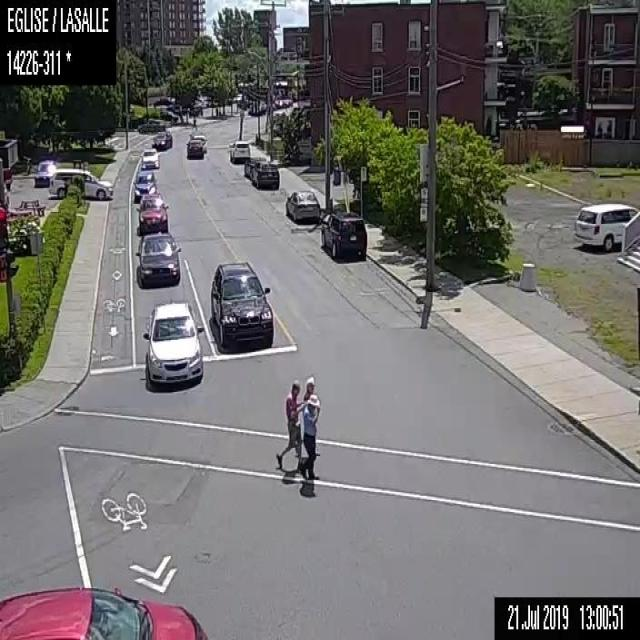pedestrian: (274, 376, 306, 481), (302, 393, 320, 481), (302, 374, 316, 402)
vehicle: (0, 584, 207, 638), (209, 259, 274, 349), (141, 299, 204, 385), (574, 198, 638, 252), (132, 228, 182, 287), (319, 208, 367, 261), (47, 165, 114, 200), (136, 190, 170, 233), (285, 188, 320, 223), (129, 169, 156, 202), (253, 160, 280, 191), (33, 157, 55, 188), (243, 154, 266, 179), (228, 139, 250, 163), (151, 129, 171, 150), (139, 146, 159, 167), (136, 118, 165, 132), (189, 132, 207, 152), (185, 138, 203, 158)
